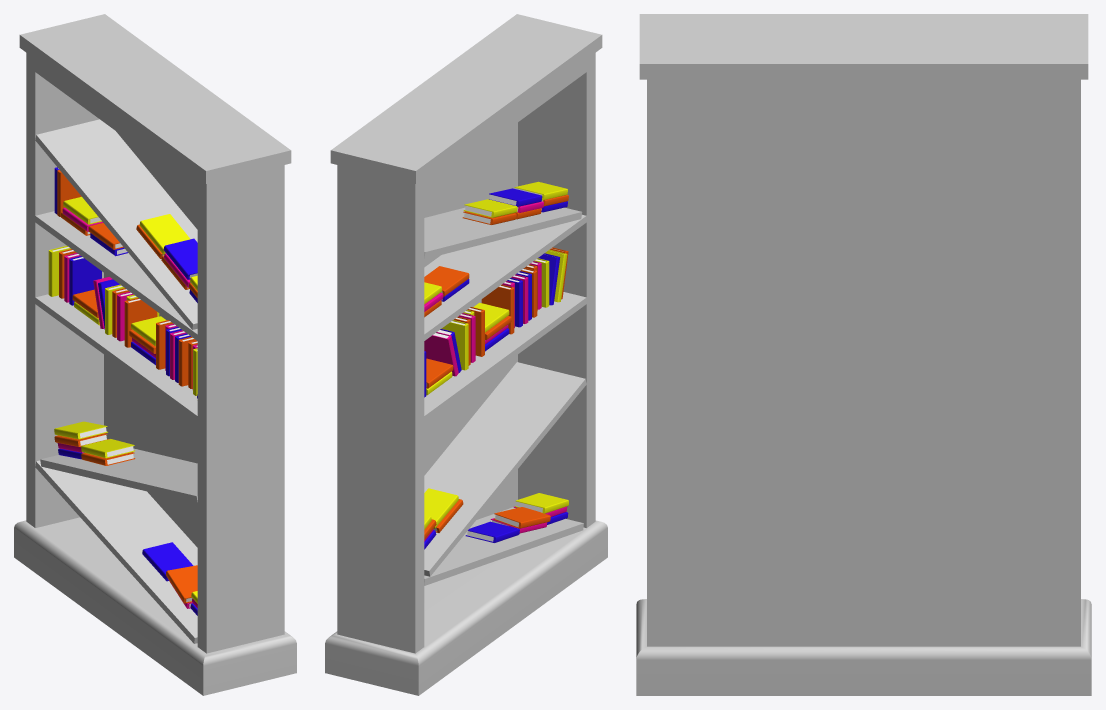
The model's file is BookShelf.fbx.
3 views of the same model, side by side, from view 1: azimuth 30°, elevation 25°; view 2: azimuth 150°, elevation 25°; view 3: azimuth 270°, elevation 25° (orthographic). The views are drawn at different scales.
Parts seen in each view (by area): view 1: BookShelf_Damage_V1, Book_Yellow__9_, Book_Bashe__12_, Book_Bashe, Book_Bashe__9_, Book_Orange__17_, Book_Orange__6_, Book_Yellow__11_, Book_Yellow__10_, Book_Yellow, Book_Yellow__2_, Book_Orange__9_ (+4 smaller); view 2: BookShelf_Damage_V1, Book_Purple__2_, Book_Yellow__11_, Book_Orange__17_, Book_Orange__3_, Book_Bashe__12_, Book_Orange__8_, Book_Yellow__12_, Book_Yellow__9_, Book_Bashe__9_, Book_Yellow__3_, Book_Yellow__8_ (+6 smaller); view 3: BookShelf_Damage_V1.
Boxes of the visible parts, x1,y1,x2,y2 form: BookShelf_Damage_V1: (14,14,296,695); Book_Yellow__9_: (139,214,190,254); Book_Bashe__12_: (142,542,193,581); Book_Bashe: (69,256,101,305); Book_Bashe__9_: (163,238,197,279); Book_Orange__17_: (166,565,197,603); Book_Orange__6_: (124,298,157,347); Book_Yellow__11_: (81,439,134,458); Book_Yellow__10_: (54,421,107,439); Book_Yellow: (48,246,70,296); Book_Yellow__2_: (63,196,101,224); Book_Orange__9_: (178,336,195,386); BookShelf_Damage_V1: (325,14,607,695); Book_Purple__2_: (424,332,458,376); Book_Yellow__11_: (424,488,458,528); Book_Orange__17_: (493,507,550,528); Book_Orange__3_: (424,266,469,296); Book_Bashe__12_: (465,521,519,542); Book_Orange__8_: (481,284,514,334); Book_Yellow__12_: (515,493,568,513); Book_Yellow__9_: (463,199,517,217); Book_Bashe__9_: (489,188,542,206); Book_Yellow__3_: (441,320,468,370); Book_Yellow__8_: (514,181,567,200); BookShelf_Damage_V1: (636,14,1091,695).
Bounding box in the file's own units: 59.99 × 320 × 210.
